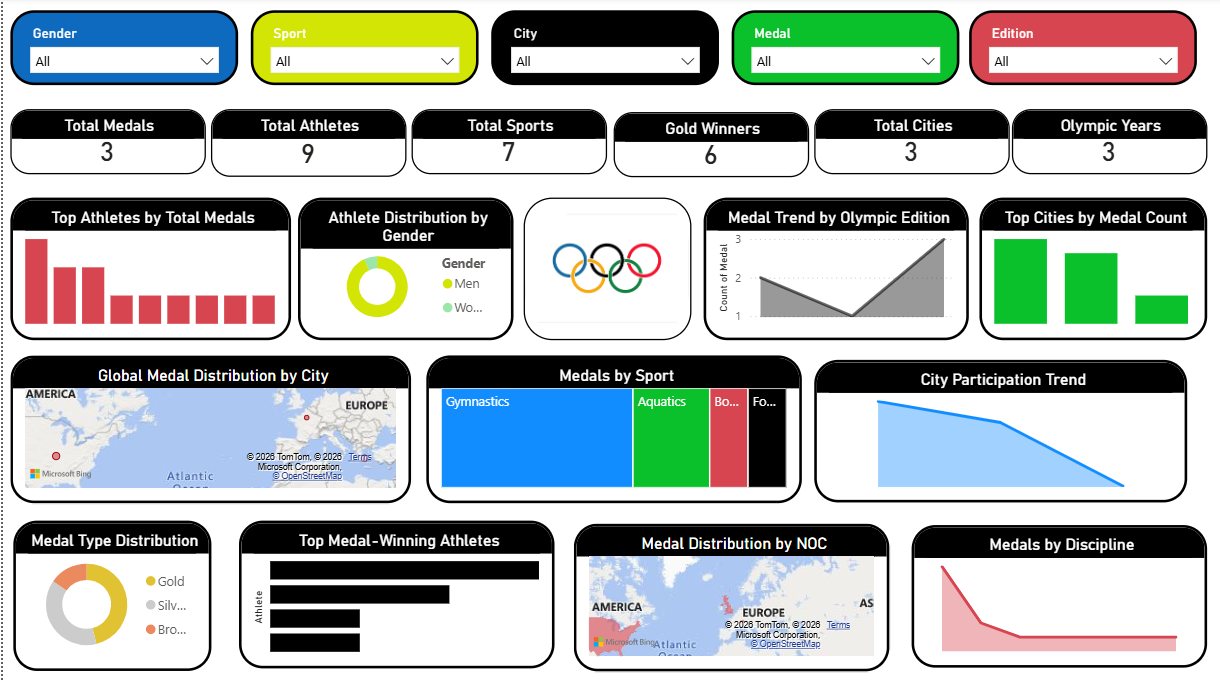

The dashboard page shown, as its layout file describes it:
{"tool":"powerbi","page":{"name":"Page 1","canvas":[1280,720],"ordinal":0},"visuals":[{"type":"card","title":"Total Medals","fields":{"Values":["Count(clean_olympics.Medal)"]},"box":[7.9,118.4,205.3,68.4],"z":0},{"type":"slicer","fields":{"Values":["clean_olympics.Gender"]},"box":[7.8,13.2,239.5,79],"z":1},{"type":"slicer","fields":{"Values":["clean_olympics.Sport"]},"box":[260.5,13.2,239.5,78.9],"z":2},{"type":"slicer","fields":{"Values":["clean_olympics.City"]},"box":[513.1,13.2,239.5,79],"z":3},{"type":"slicer","fields":{"Values":["clean_olympics.Medal"]},"box":[765.8,13.2,239.5,78.9],"z":4},{"type":"slicer","fields":{"Values":["clean_olympics.Edition"]},"box":[1015.8,13.2,239.5,78.9],"z":5},{"type":"card","title":"Total Athletes","fields":{"Values":["Count(clean_olympics.Athlete)"]},"box":[218.4,118.4,205.3,71],"z":6},{"type":"card","title":"Total Sports","fields":{"Values":["Count(clean_olympics.Sport)"]},"box":[429,118.4,205.3,68.4],"z":7},{"type":"card","title":"Total Cities","fields":{"Values":["Count(clean_olympics.City)"]},"box":[852.7,118.4,205.3,68.4],"z":8},{"type":"card","title":"Olympic Years","fields":{"Values":["Count(clean_olympics.Edition)"]},"box":[1060.6,118.4,205.3,68.4],"z":9},{"type":"card","title":"Gold Winners","fields":{"Values":["clean_olympics.Gold Medal Winners"]},"box":[642.2,121.1,205.3,68.4],"z":10},{"type":"image","box":[547.4,210.5,176.3,150],"z":11},{"type":"columnChart","title":"Top Athletes by Total Medals","fields":{"Category":["clean_olympics.Athlete"],"Y":["CountNonNull(clean_olympics.Medal)"]},"box":[7.9,210.5,294.8,150],"z":12},{"type":"map","title":"Global Medal Distribution by City","fields":{"Category":["clean_olympics.City"],"Size":["CountNonNull(clean_olympics.Medal)"]},"box":[7.9,376.3,421.1,155.3],"z":13},{"type":"donutChart","title":"Athlete Distribution by Gender","fields":{"Category":["clean_olympics.Gender"],"Y":["CountNonNull(clean_olympics.Athlete)"]},"box":[310.6,210.5,226.3,150],"z":14},{"type":"donutChart","title":"Medal Type Distribution","fields":{"Category":["clean_olympics.Medal"],"Y":["CountNonNull(clean_olympics.Medal)"]},"box":[10.5,550,207.9,157.9],"z":15},{"type":"stackedAreaChart","title":"Medal Trend by Olympic Edition","fields":{"Category":["clean_olympics.Edition"],"Y":["Count(clean_olympics.Medal)"]},"box":[736.9,210.5,279,150],"z":16},{"type":"treemap","title":"Medals by Sport","fields":{"Values":["CountNonNull(clean_olympics.Medal)"],"Group":["clean_olympics.Sport"]},"box":[444.8,376.3,394.8,155.3],"z":17},{"type":"columnChart","title":"Top Cities by Medal Count","fields":{"Y":["CountNonNull(clean_olympics.City)"],"Category":["clean_olympics.Medal"]},"box":[1026.4,210.5,239.5,150],"z":18},{"type":"areaChart","title":"City Participation Trend","fields":{"Category":["clean_olympics.Medal"],"Y":["CountNonNull(clean_olympics.City)"]},"box":[852.7,381.6,392.1,150],"z":19},{"type":"clusteredBarChart","title":"Top Medal-Winning Athletes","fields":{"Category":["clean_olympics.Athlete"],"Y":["CountNonNull(clean_olympics.Medal)"]},"box":[247.4,550,331.6,155.3],"z":21},{"type":"filledMap","title":"Medal Distribution by NOC","fields":{"Category":["clean_olympics.NOC"]},"box":[600.1,552.7,331.6,155.3],"z":22},{"type":"areaChart","title":"Medals by Discipline","fields":{"Y":["CountNonNull(clean_olympics.Medal)"],"Category":["clean_olympics.Discipline"]},"box":[955.3,555.3,310.6,150],"z":23}]}

Visuals, with their boxes in screenshot pixels (x1, y1, x2, y2), scaled from the page's 1280x720 canvas onto the 1220x680 screenshot:
"Total Medals" card: 8,112,203,176
slicer - clean_olympics.Gender: 7,12,236,87
slicer - clean_olympics.Sport: 248,12,477,87
slicer - clean_olympics.City: 489,12,717,87
slicer - clean_olympics.Medal: 730,12,958,87
slicer - clean_olympics.Edition: 968,12,1196,87
"Total Athletes" card: 208,112,404,179
"Total Sports" card: 409,112,605,176
"Total Cities" card: 813,112,1008,176
"Olympic Years" card: 1011,112,1207,176
"Gold Winners" card: 612,114,808,179
image: 522,199,690,340
"Top Athletes by Total Medals" columnChart: 8,199,289,340
"Global Medal Distribution by City" map: 8,355,409,502
"Athlete Distribution by Gender" donutChart: 296,199,512,340
"Medal Type Distribution" donutChart: 10,519,208,669
"Medal Trend by Olympic Edition" stackedAreaChart: 702,199,968,340
"Medals by Sport" treemap: 424,355,800,502
"Top Cities by Medal Count" columnChart: 978,199,1207,340
"City Participation Trend" areaChart: 813,360,1186,502
"Top Medal-Winning Athletes" clusteredBarChart: 236,519,552,666
"Medal Distribution by NOC" filledMap: 572,522,888,669
"Medals by Discipline" areaChart: 911,524,1207,666
